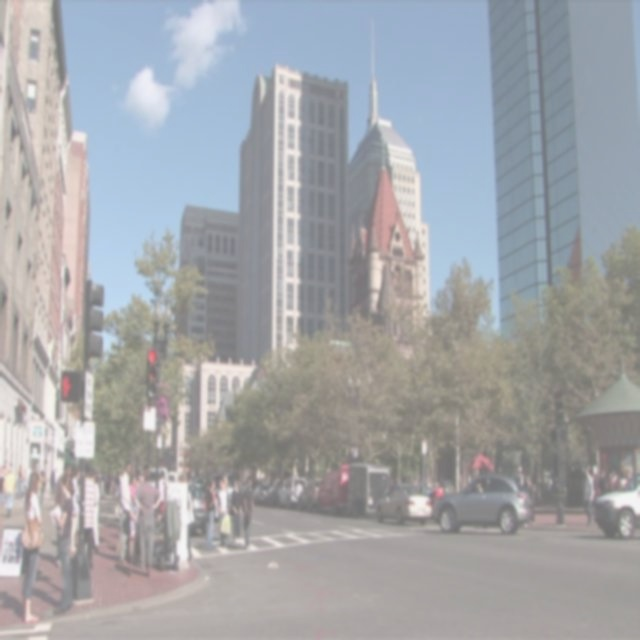pessoa: (50, 473, 74, 616), (21, 470, 43, 624), (131, 466, 161, 576), (75, 460, 98, 571), (240, 474, 258, 552), (120, 458, 132, 566), (590, 465, 632, 495), (68, 461, 81, 556), (214, 477, 230, 548), (0, 458, 16, 524), (53, 462, 73, 514), (204, 476, 217, 552), (230, 477, 244, 544), (582, 464, 594, 528), (92, 472, 101, 552), (98, 466, 120, 496), (187, 488, 196, 561), (154, 470, 166, 520), (128, 468, 140, 514), (526, 477, 536, 531), (516, 464, 529, 491), (48, 468, 58, 501), (38, 466, 46, 506), (70, 458, 80, 490), (16, 463, 24, 501), (114, 522, 121, 554), (28, 464, 40, 482), (1, 538, 10, 562), (22, 473, 28, 500), (544, 474, 552, 490), (238, 477, 245, 495), (222, 475, 228, 488)
